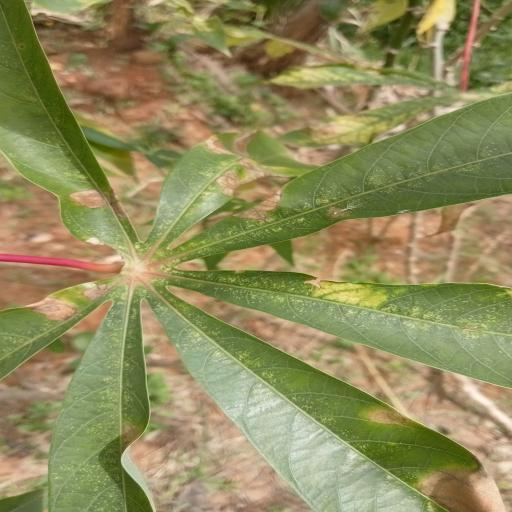Cassava_Root_Rot: (7, 4, 512, 512)
